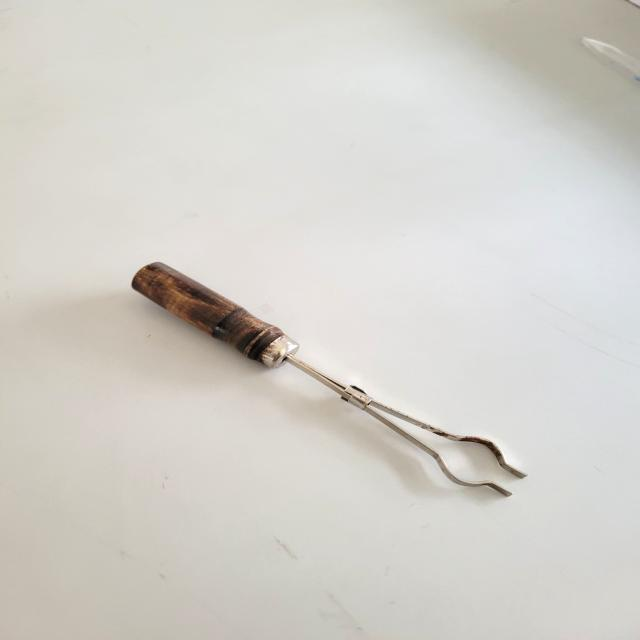TestTube_Holder: (103, 237, 534, 519)
